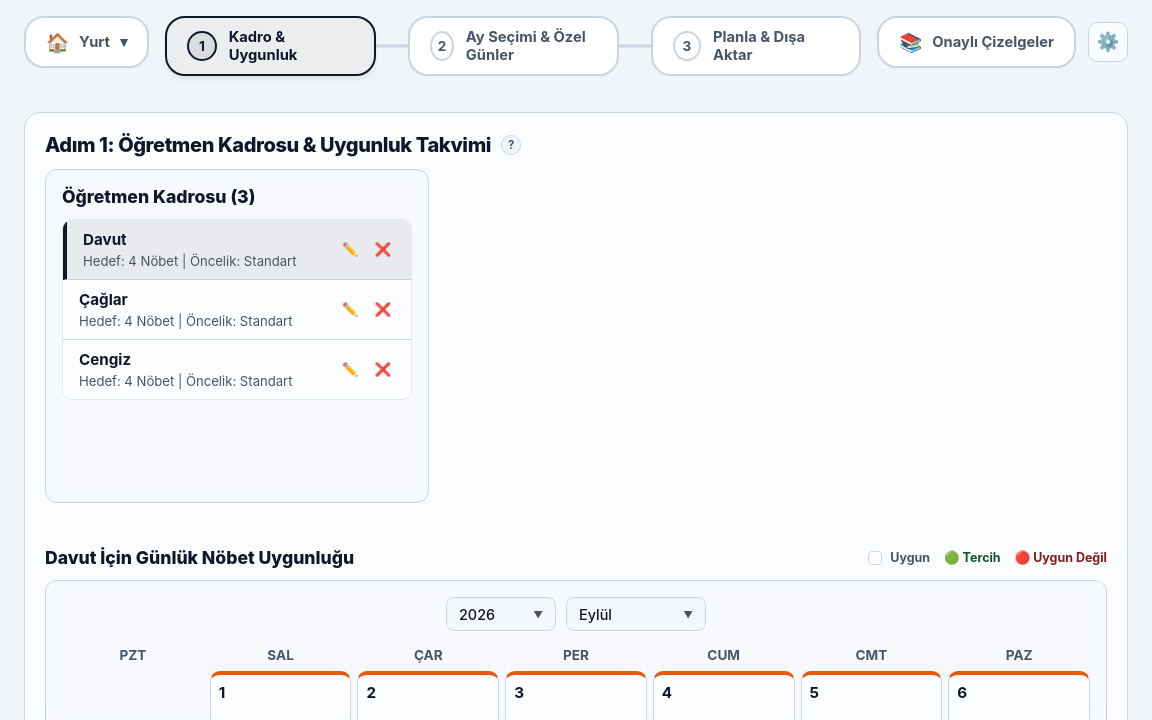
Test: choosing the interface language › switches the whole interface on the spot and remembers the choice
Expected: the text "Adım 1: Öğretmen Kadrosu & Uygunluk Takvimi" is shown, [45, 133, 491, 157]
Click the button "⚙️": (1108, 42) [1088, 22, 1128, 62]
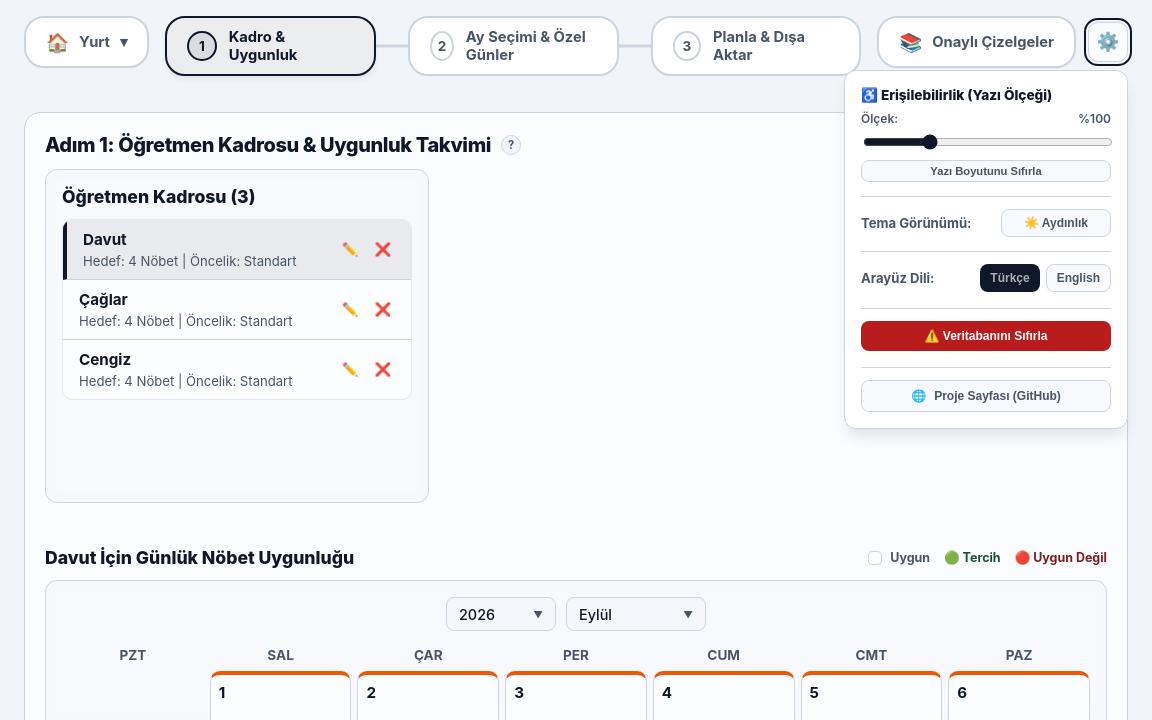
Click the button "English": (1078, 278) [1046, 264, 1111, 292]
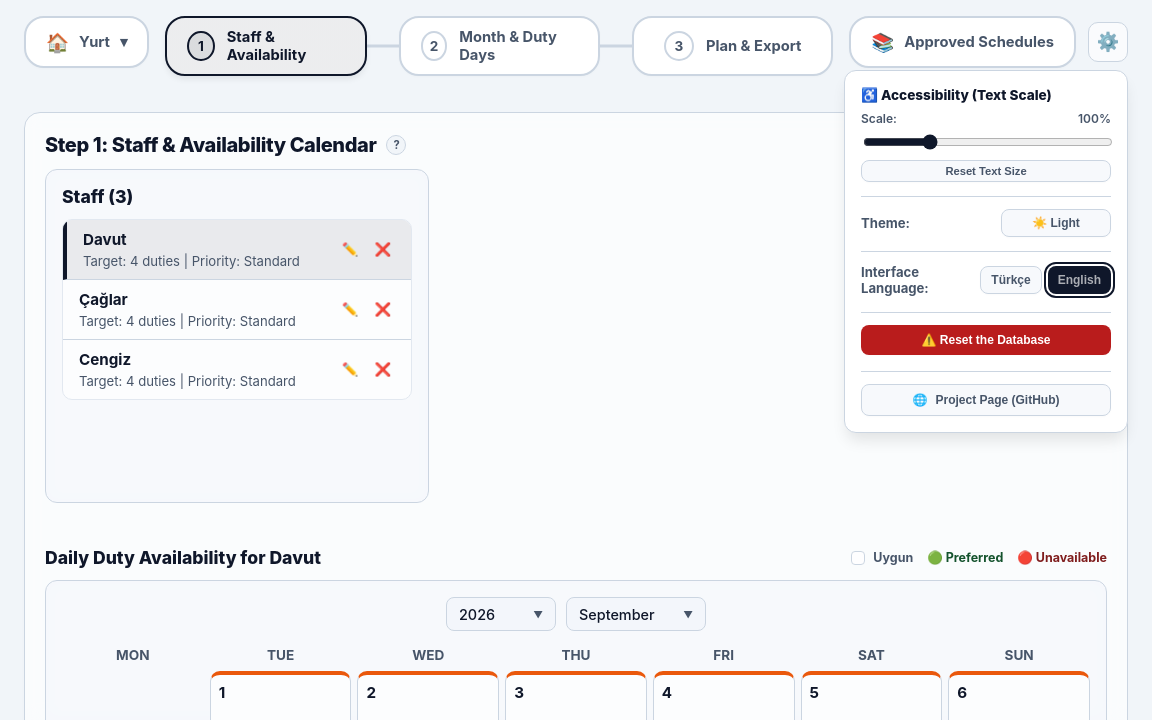
Expected: the text "Step 1: Staff & Availability Calendar" is shown, [45, 133, 376, 157]
Expected: the heading "Staff (3)" is shown, [62, 186, 133, 207]
Expected: the text "Adım 1: Öğretmen Kadrosu & Uygunluk Takvimi" is gone
